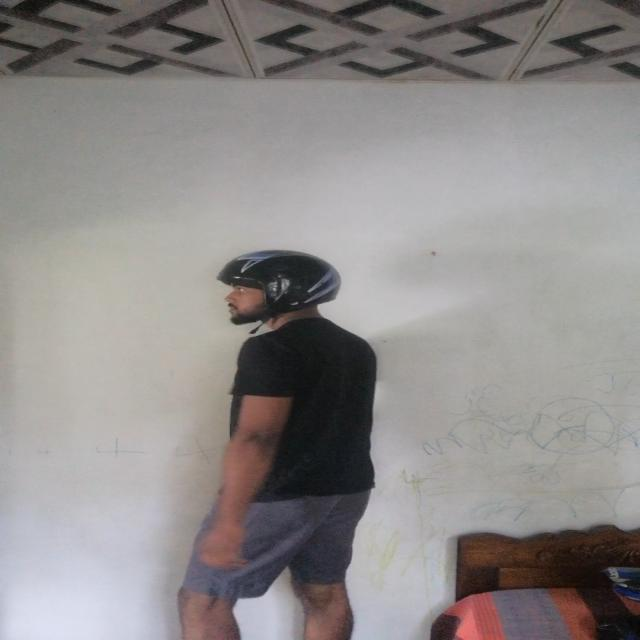Helmet_Wearer: (203, 244, 348, 332)
Person: (173, 251, 458, 640)
